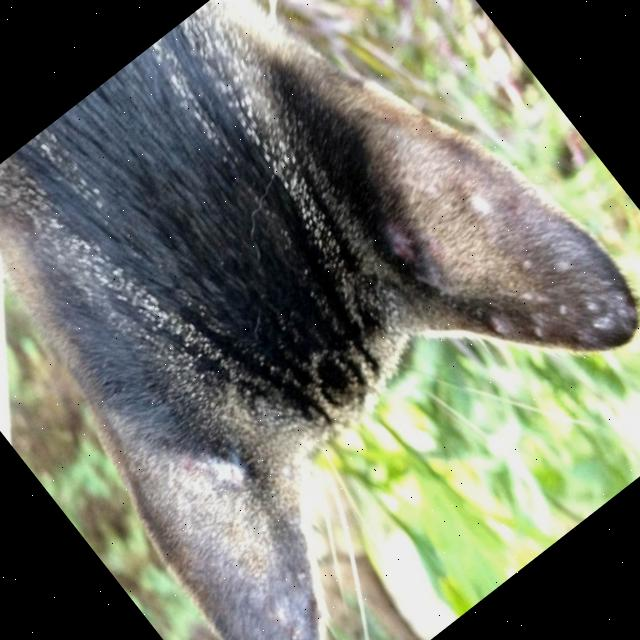cat-scabies: (288, 26, 640, 434), (91, 379, 390, 640)
